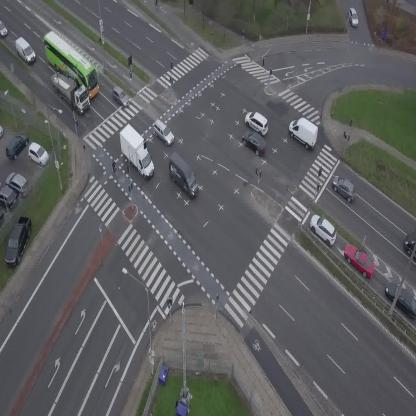bicycle: (110, 159, 119, 175), (153, 0, 159, 9)
bus: (34, 28, 109, 99)
car: (339, 239, 381, 282), (304, 210, 342, 248), (236, 126, 272, 159), (327, 172, 361, 204), (241, 108, 273, 138), (148, 118, 178, 147), (108, 84, 133, 111), (346, 7, 360, 29), (0, 21, 7, 37)
lorry: (109, 123, 165, 181), (42, 62, 97, 117), (159, 152, 207, 199), (283, 113, 324, 152), (10, 36, 40, 65), (403, 234, 416, 259)
